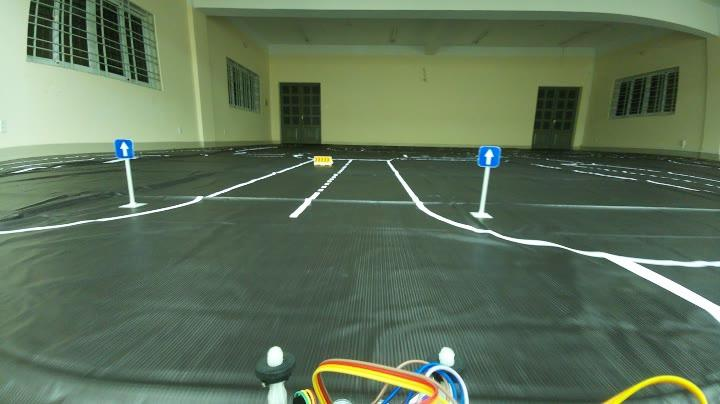onewayroad: (108, 136, 138, 158), (478, 146, 503, 168)
roadblock: (309, 156, 337, 168)
